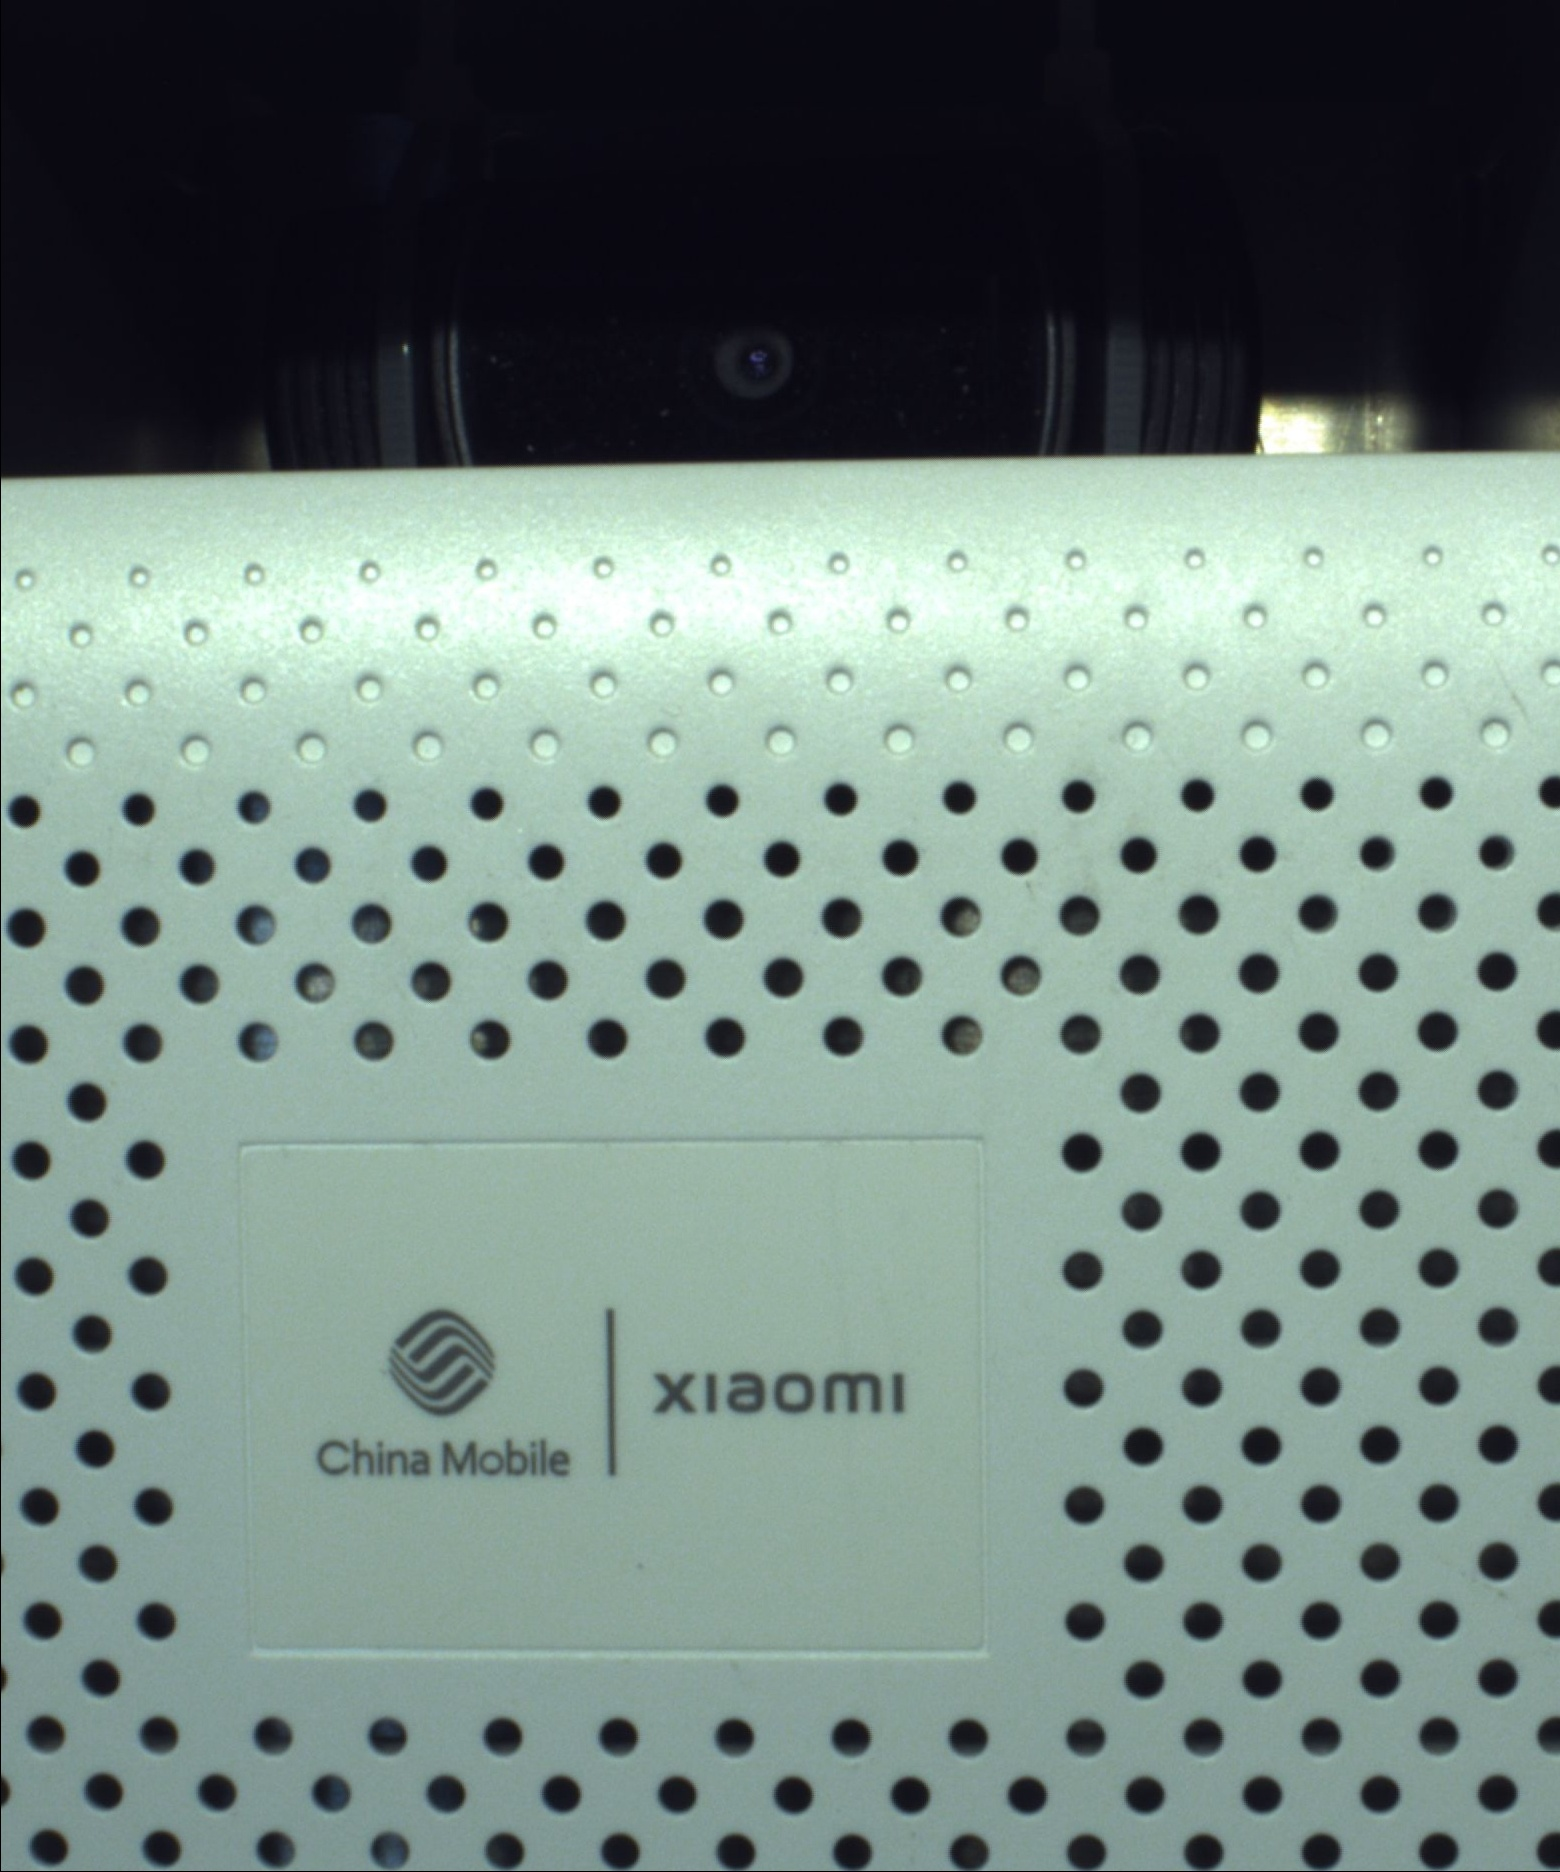MAD_ChinaMobile: (310, 1314, 921, 1497)
